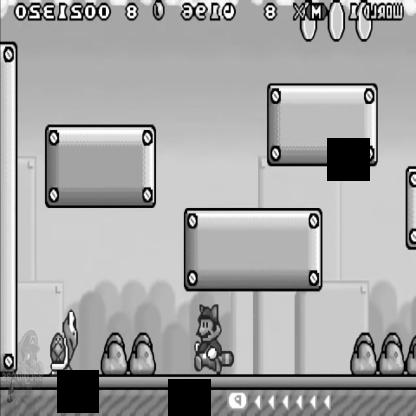Mario: (193, 296, 235, 374)
koopa: (47, 304, 82, 375)
moneda: (297, 0, 326, 42), (325, 0, 348, 52), (353, 0, 375, 45)
